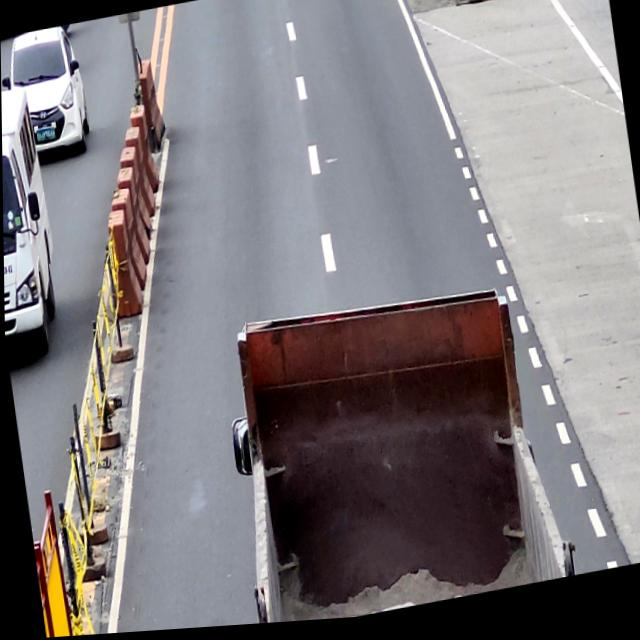Truck: (212, 270, 576, 629)
